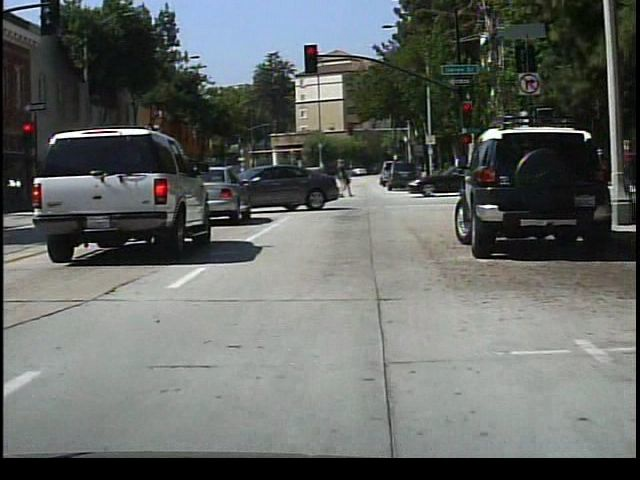person: (330, 159, 355, 200), (456, 150, 473, 188)
